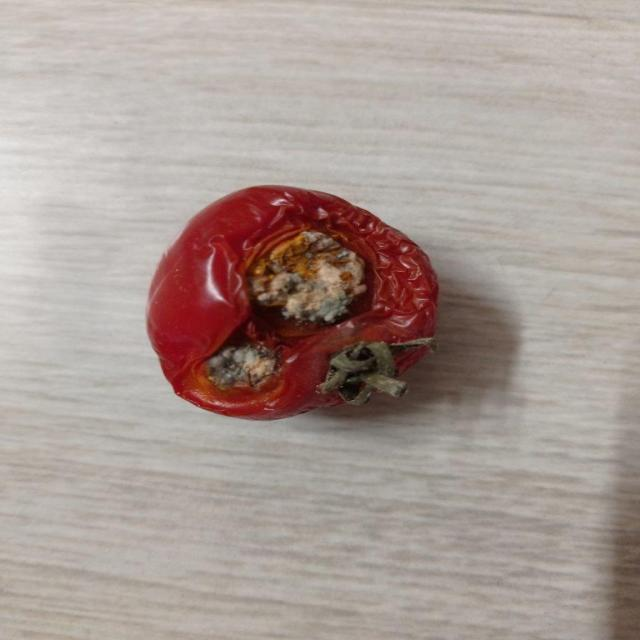Rotten: (144, 182, 442, 422)
